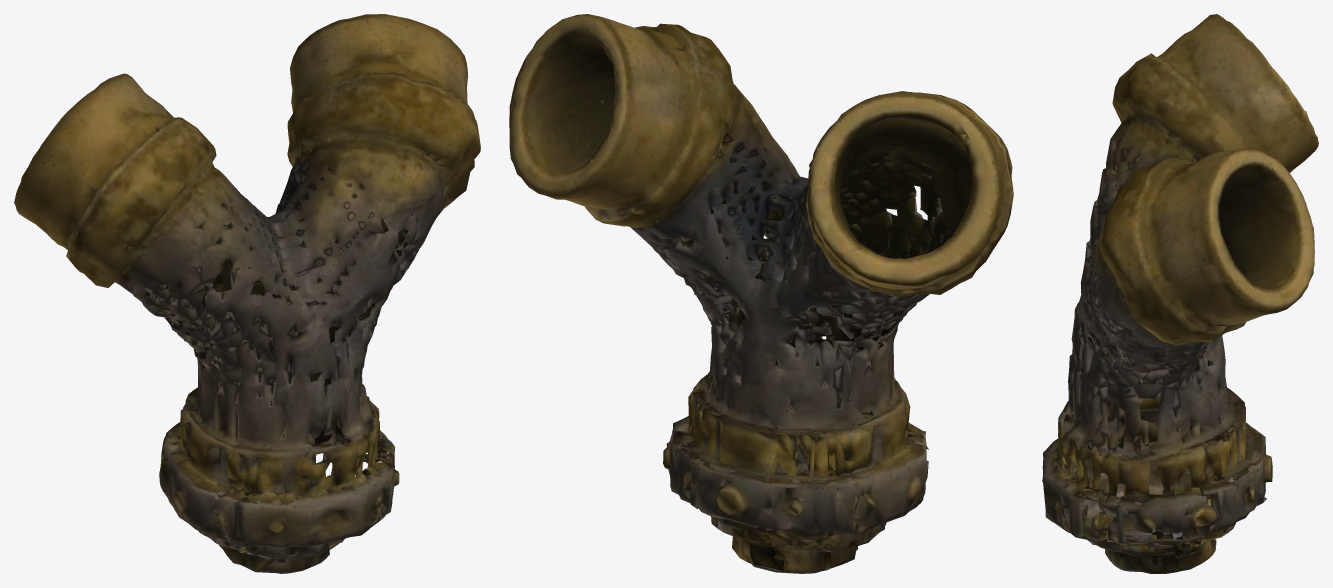
3 views of the same model, side by side, from view 1: azimuth 30°, elevation 25°; view 2: azimuth 150°, elevation 25°; view 3: azimuth 270°, elevation 25° (orthographic). The views are drawn at different scales.
Visible parts, largest first — view 1: steampunk_y_pipe_splitter; view 2: steampunk_y_pipe_splitter; view 3: steampunk_y_pipe_splitter.
Boxes of the visible parts, x1,y1,x2,y2 form: steampunk_y_pipe_splitter: [14, 14, 480, 573]; steampunk_y_pipe_splitter: [509, 14, 1013, 573]; steampunk_y_pipe_splitter: [1042, 14, 1318, 573].
Size of the model in its own units: 0.1741 by 0.18 by 0.0964.
1 material, 1 textured.
